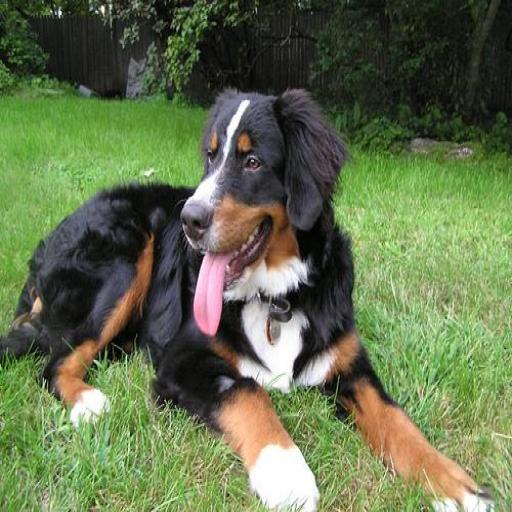dog_face: (185, 83, 329, 283)
